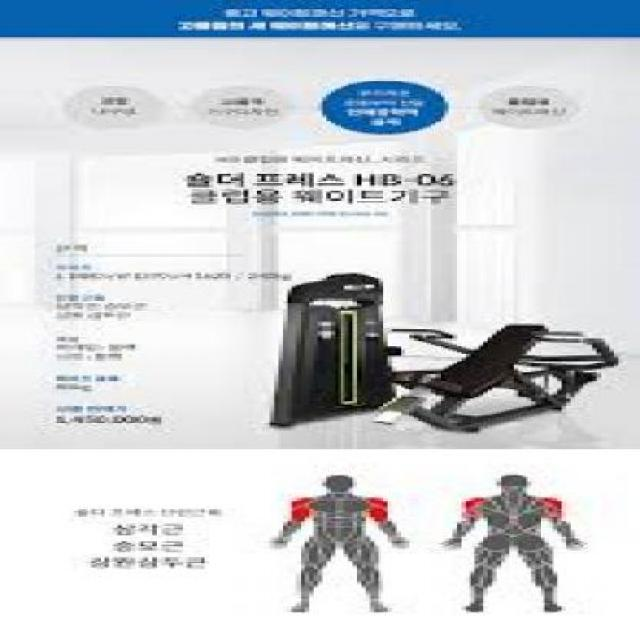shoulder press machine: (272, 274, 618, 434)
